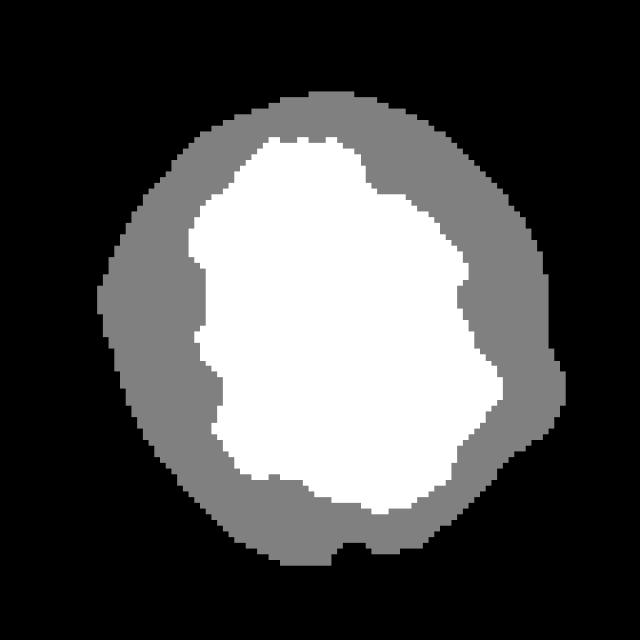WBC: (86, 69, 588, 588)
